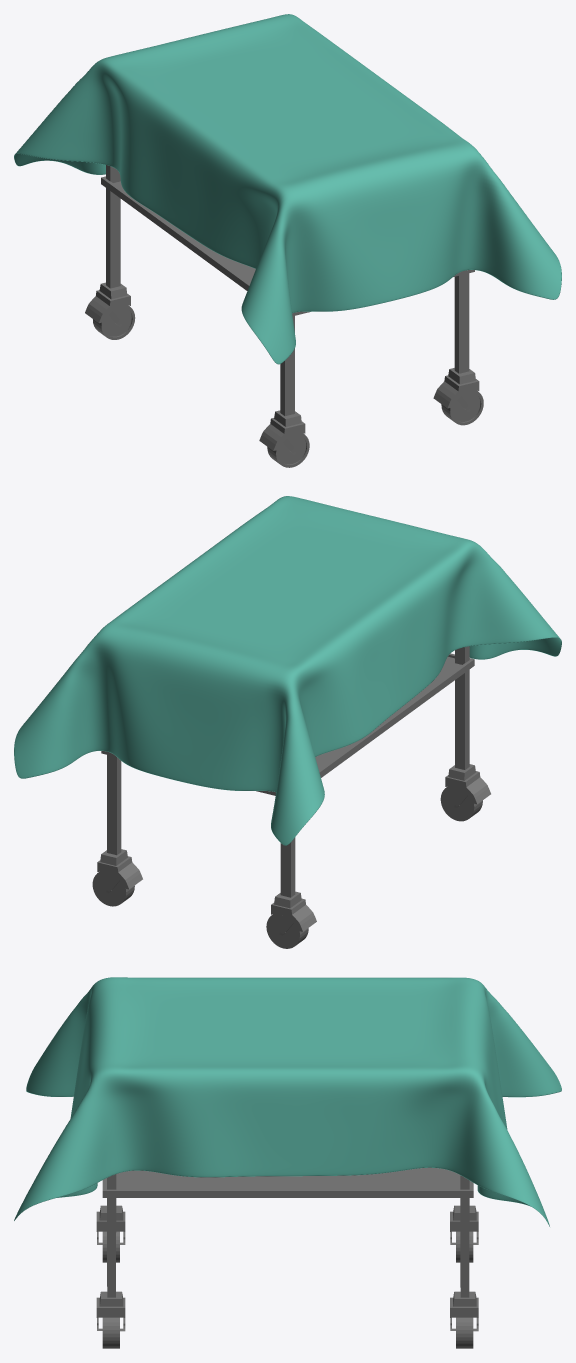
The model's file is BordMedDuk.fbx.
3 renders of one model, top to bottom at view 1: azimuth 30°, elevation 25°; view 2: azimuth 150°, elevation 25°; view 3: azimuth 270°, elevation 25°, orthographic.
Visible parts, largest first — view 1: Plane, legg.002, legg.001, legg.004, main_tabble.001; view 2: Plane, legg.004, legg.003, legg.002, main_tabble.001; view 3: Plane, main_tabble.001, legg.003, legg.001, legg.002, legg.004.
Part boxes in pixels (left/top/right/bottom): Plane: left=14, top=14, right=561, bottom=364; legg.002: left=85, top=165, right=135, bottom=339; legg.001: left=433, top=273, right=483, bottom=425; legg.004: left=259, top=316, right=309, bottom=467; main_tabble.001: left=101, top=176, right=474, bottom=315; Plane: left=14, top=496, right=561, bottom=845; legg.004: left=440, top=646, right=490, bottom=821; legg.003: left=92, top=755, right=142, bottom=906; legg.002: left=266, top=837, right=316, bottom=948; main_tabble.001: left=101, top=653, right=474, bottom=795; Plane: left=14, top=977, right=561, bottom=1226; main_tabble.001: left=102, top=1167, right=473, bottom=1197; legg.003: left=450, top=1175, right=478, bottom=1348; legg.001: left=96, top=1174, right=125, bottom=1348; legg.002: left=450, top=1205, right=478, bottom=1262; legg.004: left=96, top=1205, right=125, bottom=1262.
Bounding box in the file's own units: 487 × 419 × 738.
